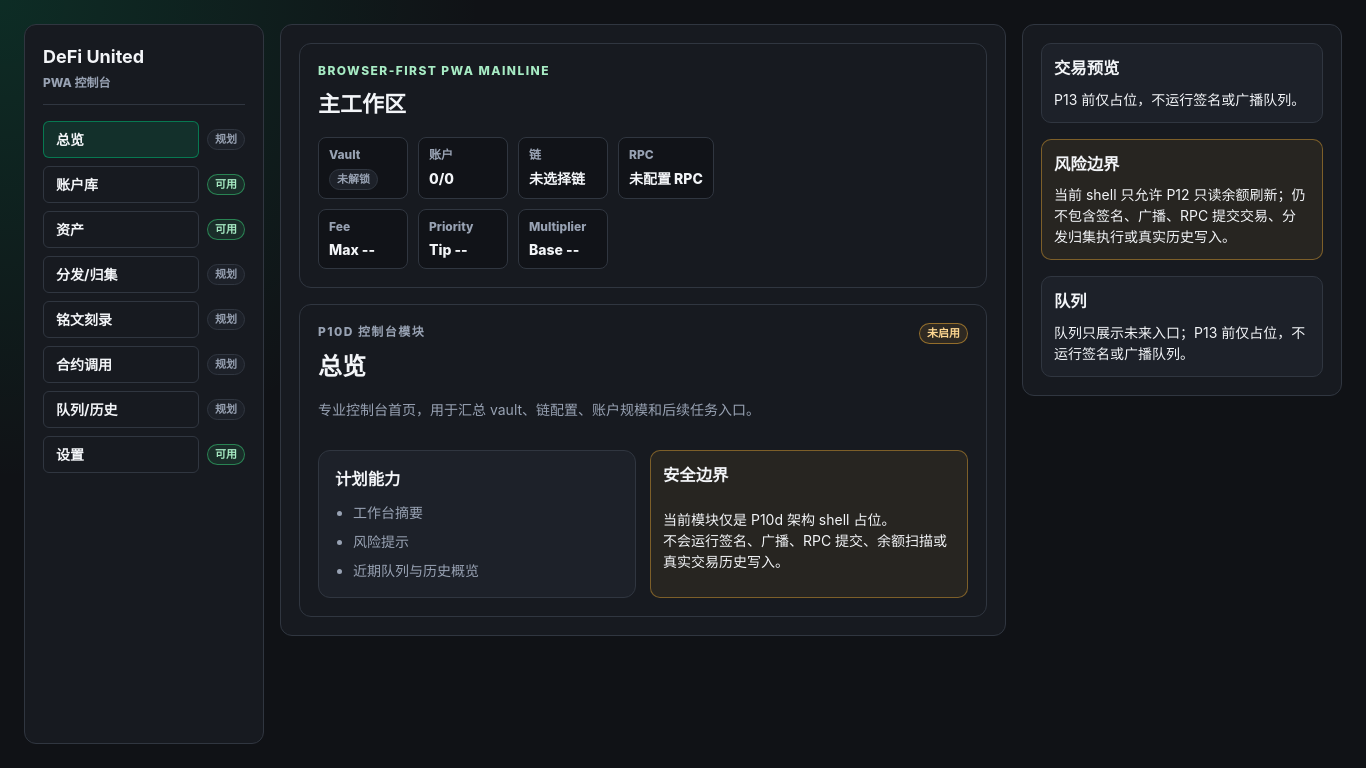
Test: PwaShell › keeps P10c+ wallet capabilities unavailable outside implemented sections
The image size is (1366, 768).
Click the button "合约调用" at (121, 364), box left=43, top=346, right=199, bottom=383
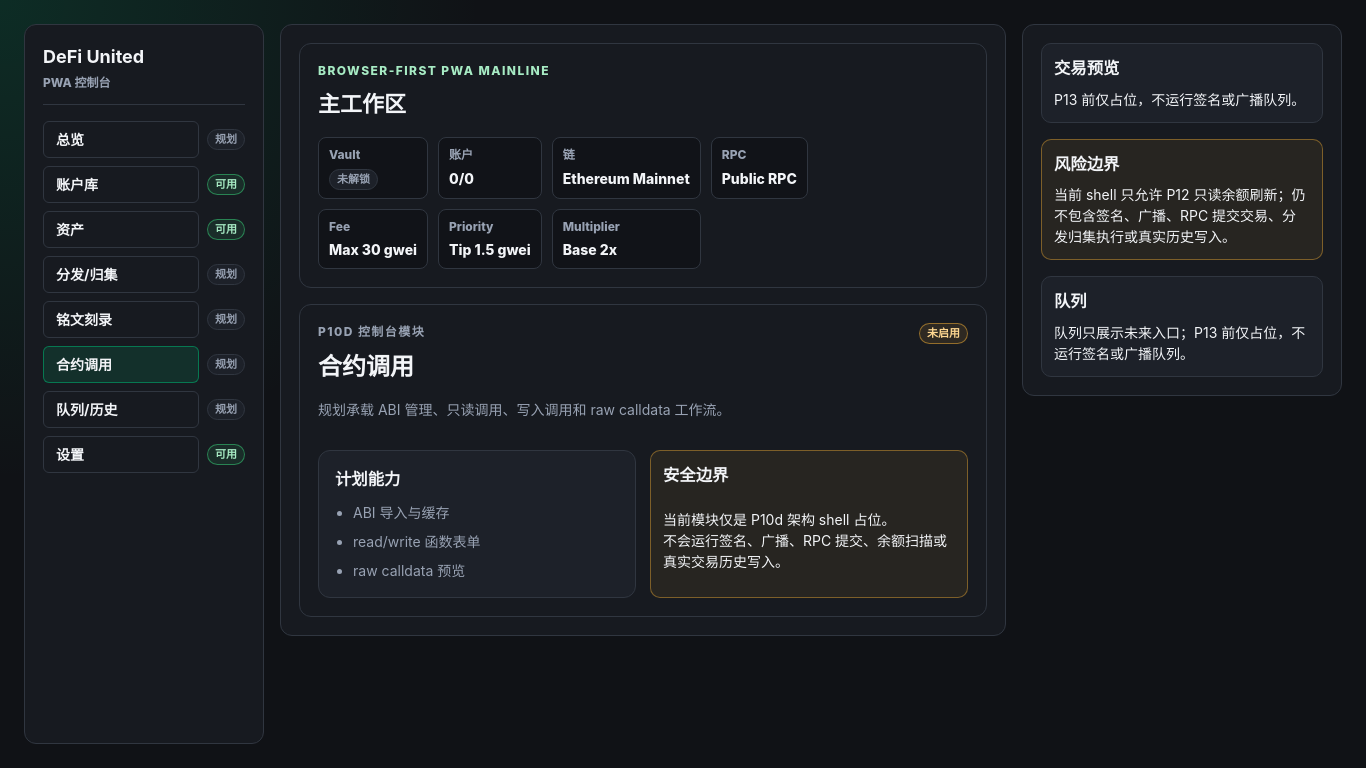
Expected: the text "未启用" is shown, left=919, top=323, right=968, bottom=344
Expected: the heading "合约调用" is shown, left=318, top=352, right=414, bottom=381
